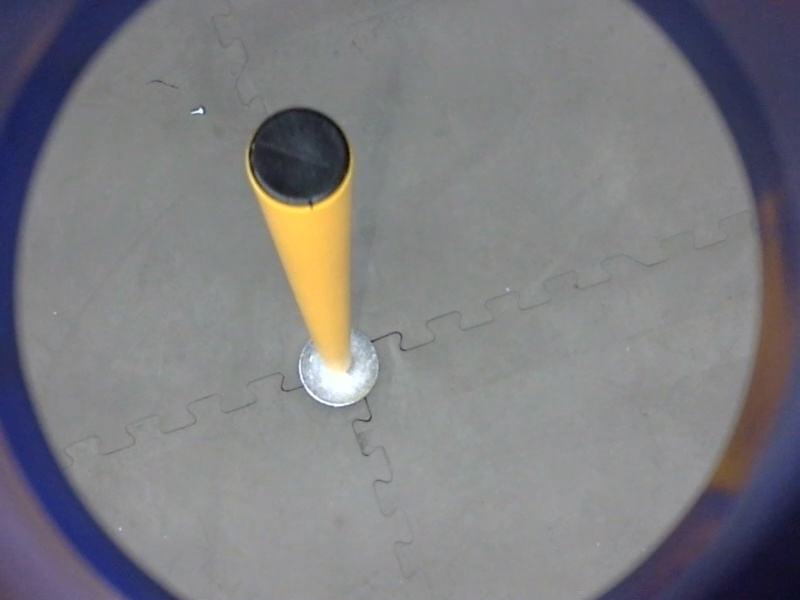tip: (240, 100, 358, 214)
